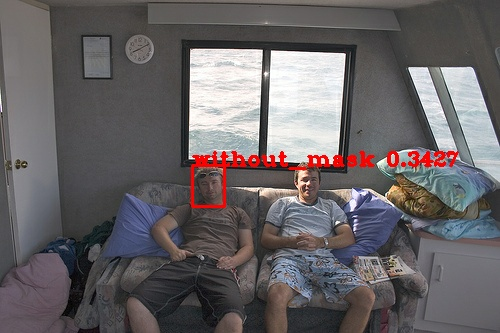without_mask: (294, 166, 322, 202), (196, 167, 225, 201)
